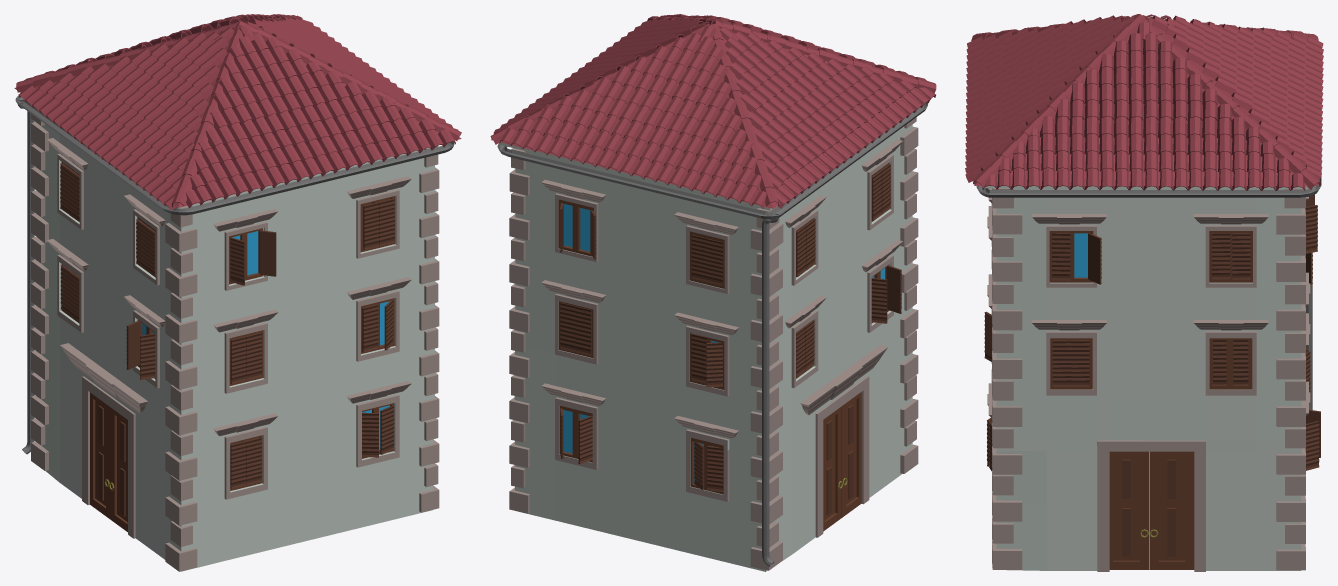
File: house01closed.fbx
3 views of the same model, side by side, from view 1: azimuth 30°, elevation 25°; view 2: azimuth 150°, elevation 25°; view 3: azimuth 270°, elevation 25° (orthographic). The views are drawn at different scales.
Visible parts, largest first — view 1: _house01closed; view 2: _house01closed; view 3: _house01closed.
Boxes of the visible parts, x1,y1,x2,y2 form: _house01closed: [14, 14, 461, 571]; _house01closed: [490, 14, 936, 571]; _house01closed: [965, 14, 1323, 571].
Bounding box in the file's own units: 101 × 153 × 101.
